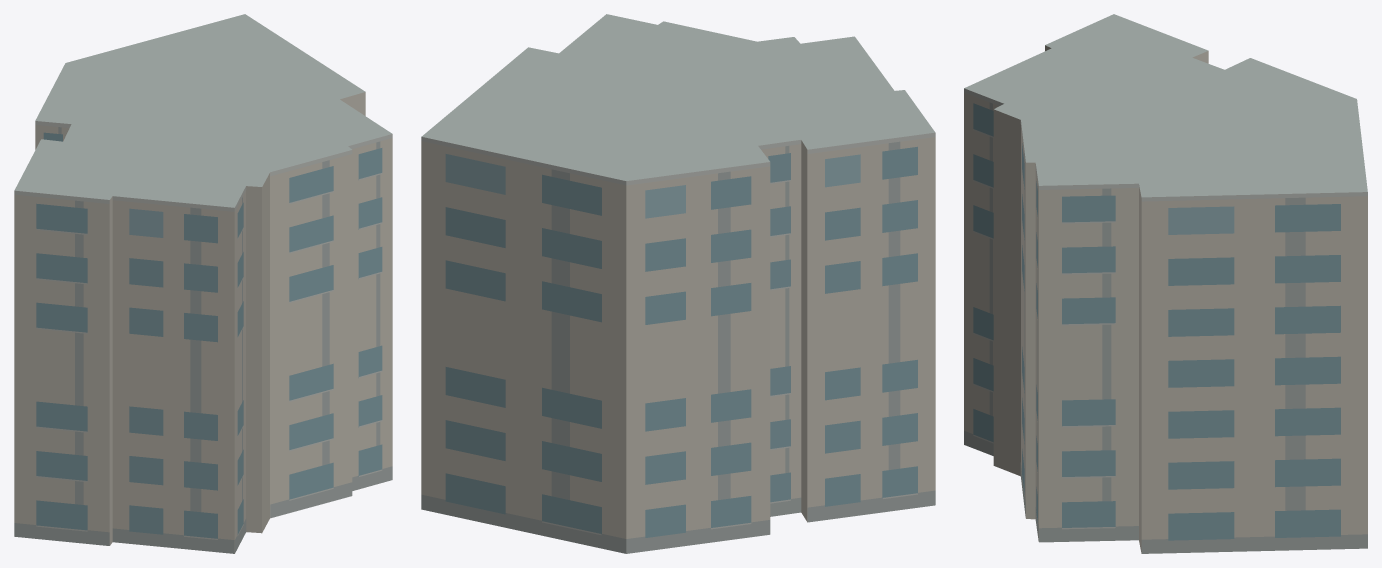
The model's file is survey-upis-32550017.glb.
3 renders of one model, left to right at view 1: azimuth 30°, elevation 25°; view 2: azimuth 150°, elevation 25°; view 3: azimuth 270°, elevation 25°, orthographic. The views are drawn at different scales.
Visible parts, largest first — view 1: survey-upis-32550017.tmp; view 2: survey-upis-32550017.tmp; view 3: survey-upis-32550017.tmp.
Part boxes in pixels (box(x1,y1,x2,y2)): survey-upis-32550017.tmp: box(14, 14, 392, 553); survey-upis-32550017.tmp: box(421, 14, 935, 553); survey-upis-32550017.tmp: box(964, 14, 1367, 553).
Size of the model in its own units: 23.03 by 20.87 by 21.43.
